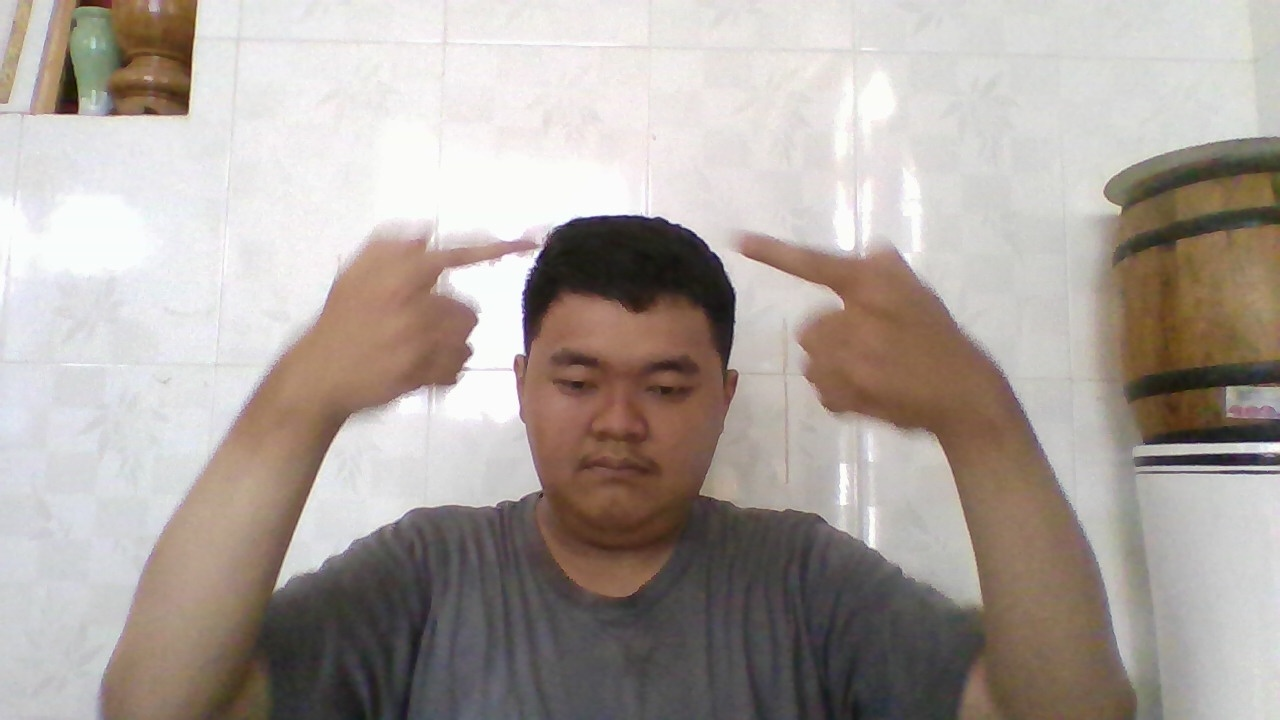G: (722, 226, 985, 413), (298, 221, 543, 396)
